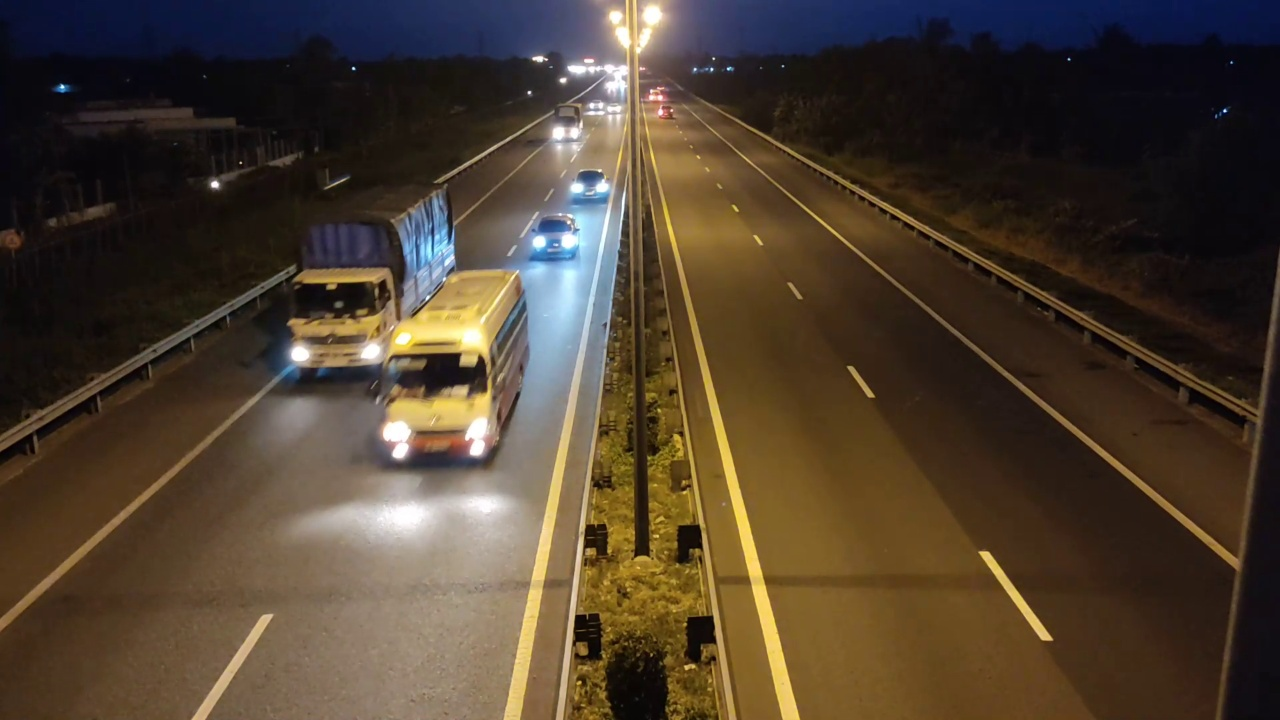bus: (374, 261, 534, 469)
car: (529, 213, 581, 260), (570, 168, 609, 201)
truck: (285, 180, 458, 382)
